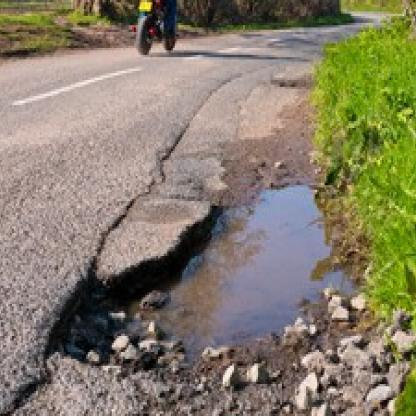pothole: (41, 185, 358, 370)
